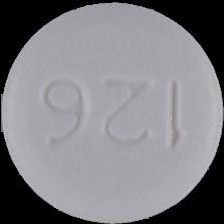0615-7941: (0, 0, 224, 224)
